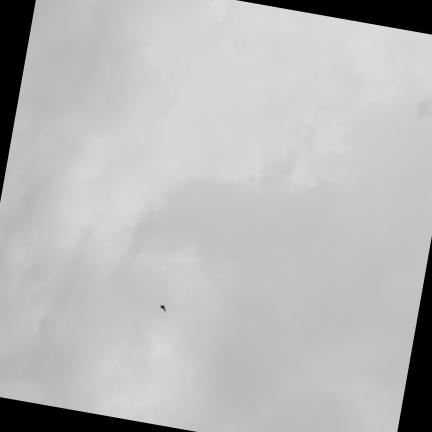Shahed: (159, 304, 165, 312)
